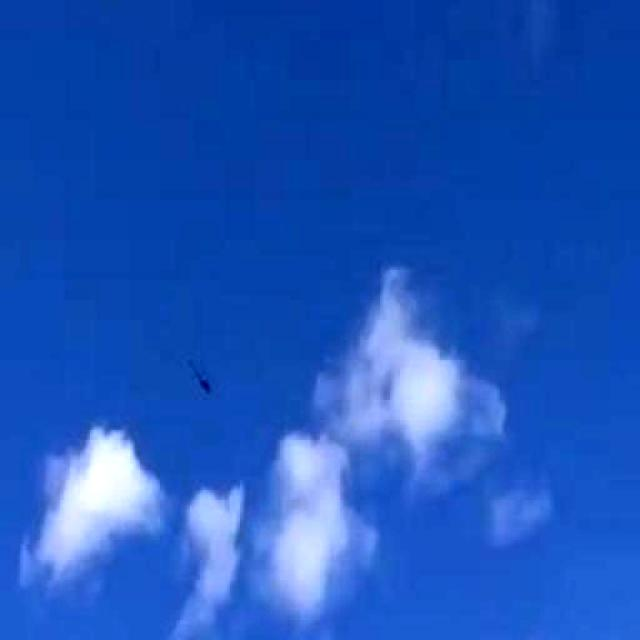drone: (162, 335, 231, 409)
